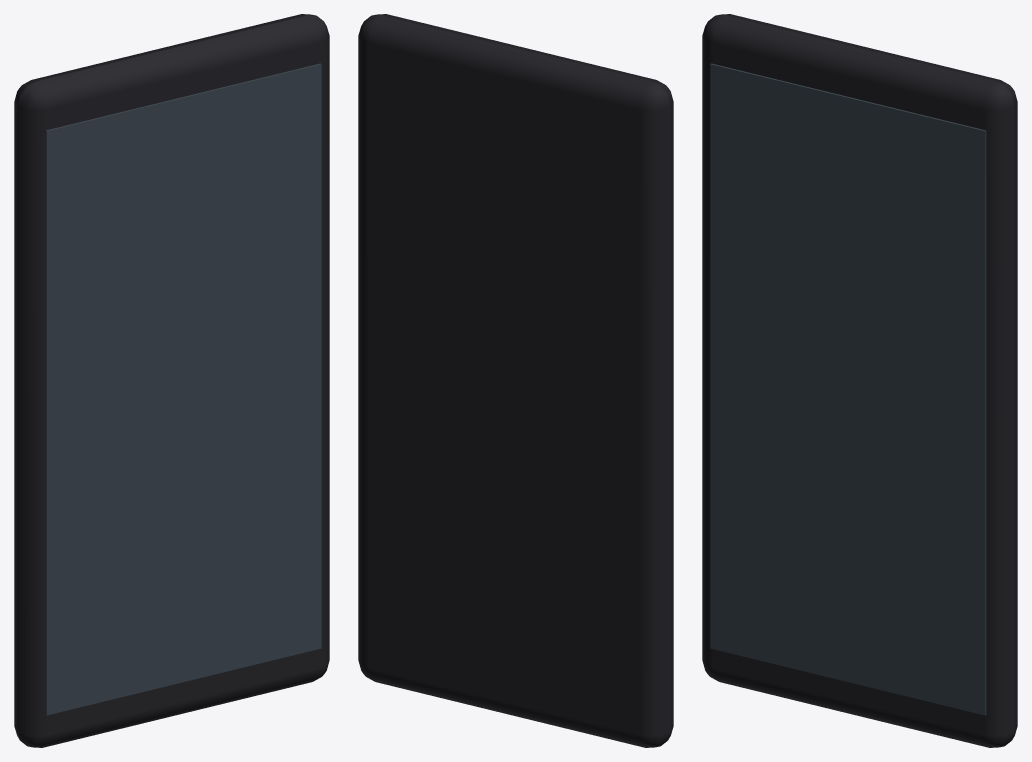
File: dien_thoai.glb
The picture shows the model from 3 angles, left to right: view 1: azimuth 30°, elevation 25°; view 2: azimuth 150°, elevation 25°; view 3: azimuth 330°, elevation 25°; orthographic projection.
Visible parts, largest first — view 1: dien_thoai; view 2: dien_thoai; view 3: dien_thoai.
Boxes of the visible parts, left/top/right/bottom form: dien_thoai: left=14, top=14, right=329, bottom=747; dien_thoai: left=358, top=14, right=673, bottom=747; dien_thoai: left=702, top=14, right=1017, bottom=747.
Size of the model in its own units: 0.072 by 0.148 by 0.0094.
